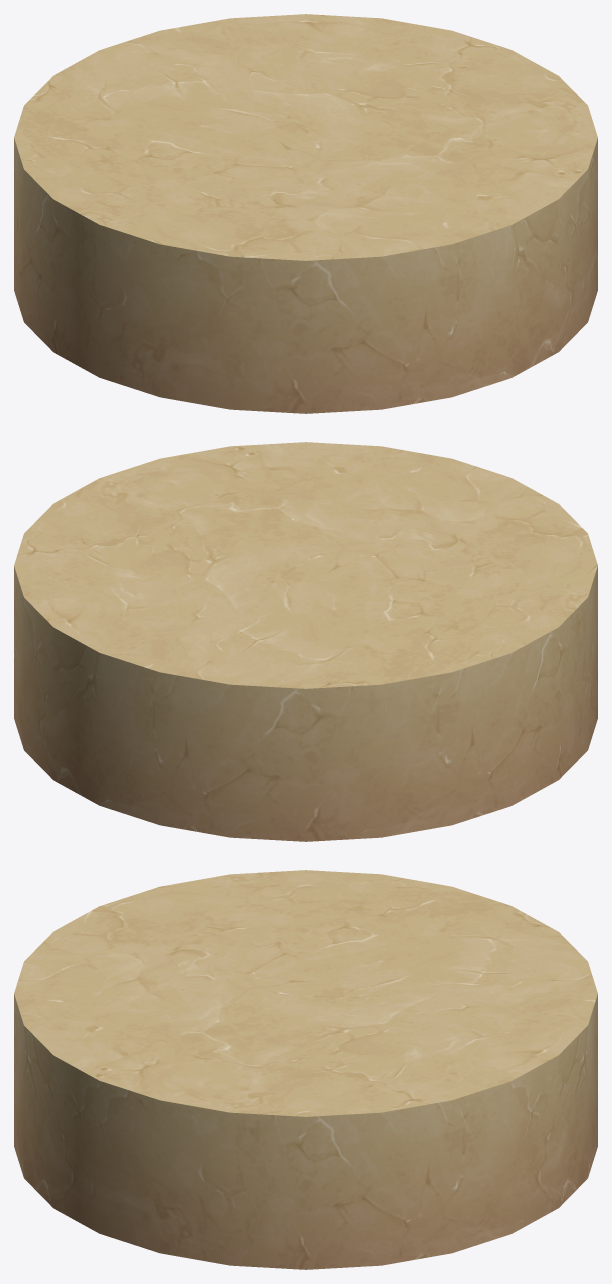
The model's file is DE_House_Mod_Part_35.fbx.
The picture shows the model from 3 angles, top to bottom: view 1: azimuth 30°, elevation 25°; view 2: azimuth 150°, elevation 25°; view 3: azimuth 270°, elevation 25°; orthographic projection.
Visible parts, largest first — view 1: DE_House_Mod_Part_35; view 2: DE_House_Mod_Part_35; view 3: DE_House_Mod_Part_35.
Part boxes in pixels (box(x1,y1,x2,y2)): DE_House_Mod_Part_35: box(14, 14, 597, 413); DE_House_Mod_Part_35: box(14, 442, 597, 841); DE_House_Mod_Part_35: box(14, 870, 597, 1269).
Size of the model in its own units: 8.13 by 2.35 by 8.13.
